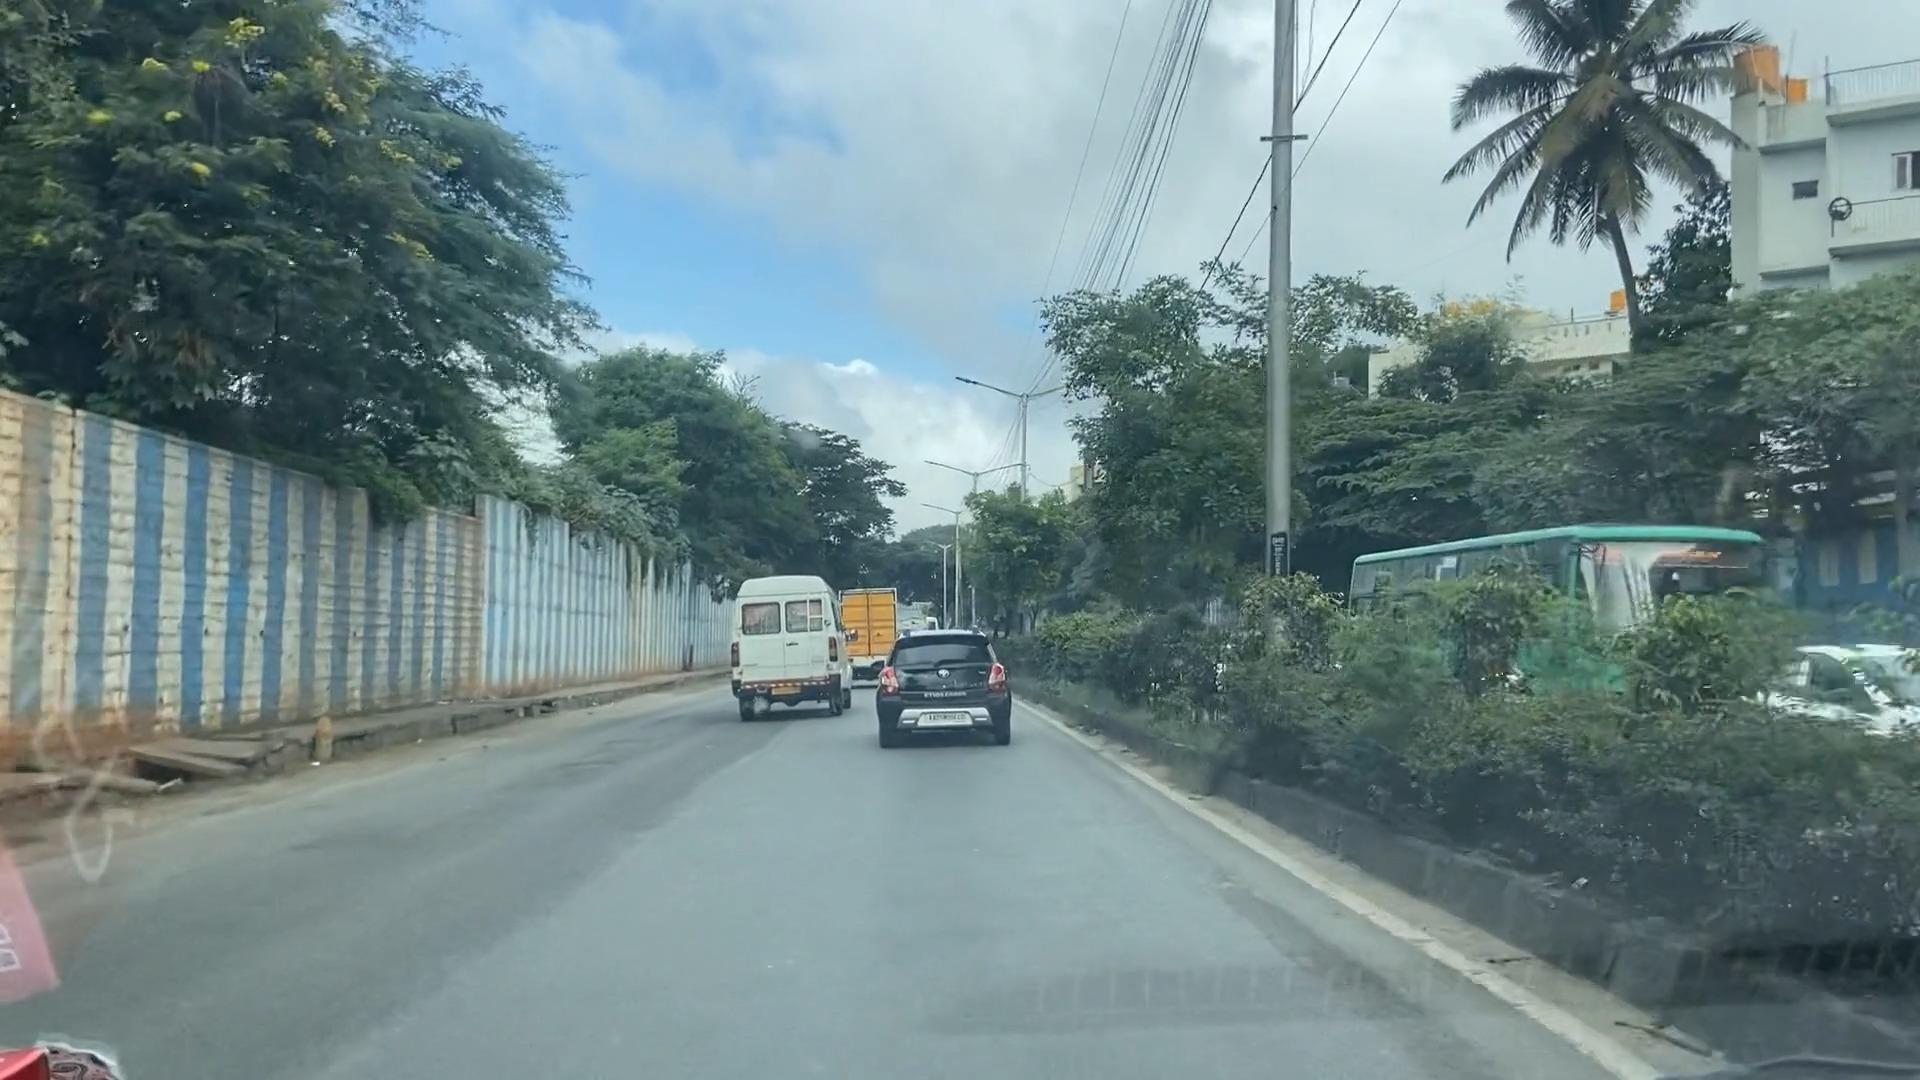HMV: (725, 579, 836, 709)
LMV: (872, 626, 994, 725)
